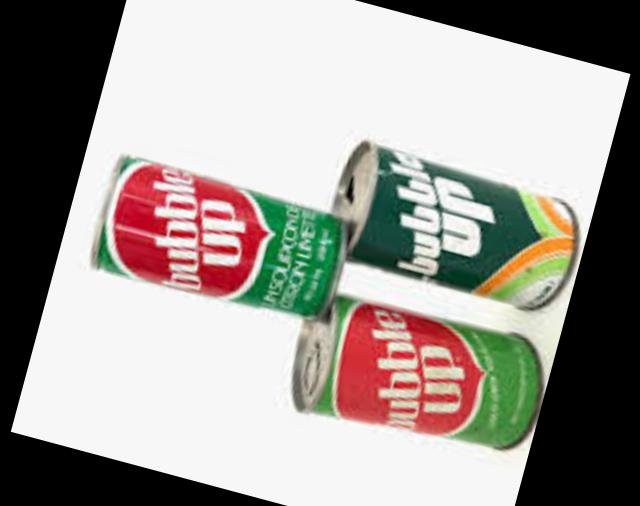metal: (329, 144, 570, 311), (89, 159, 338, 320), (288, 299, 535, 450)
